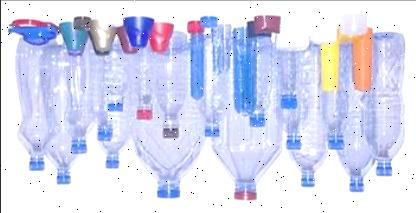Plastic Bottle: (204, 2, 308, 198), (128, 0, 206, 200), (12, 23, 108, 175), (330, 33, 408, 191), (15, 38, 71, 192), (270, 39, 316, 192), (59, 38, 95, 158)
